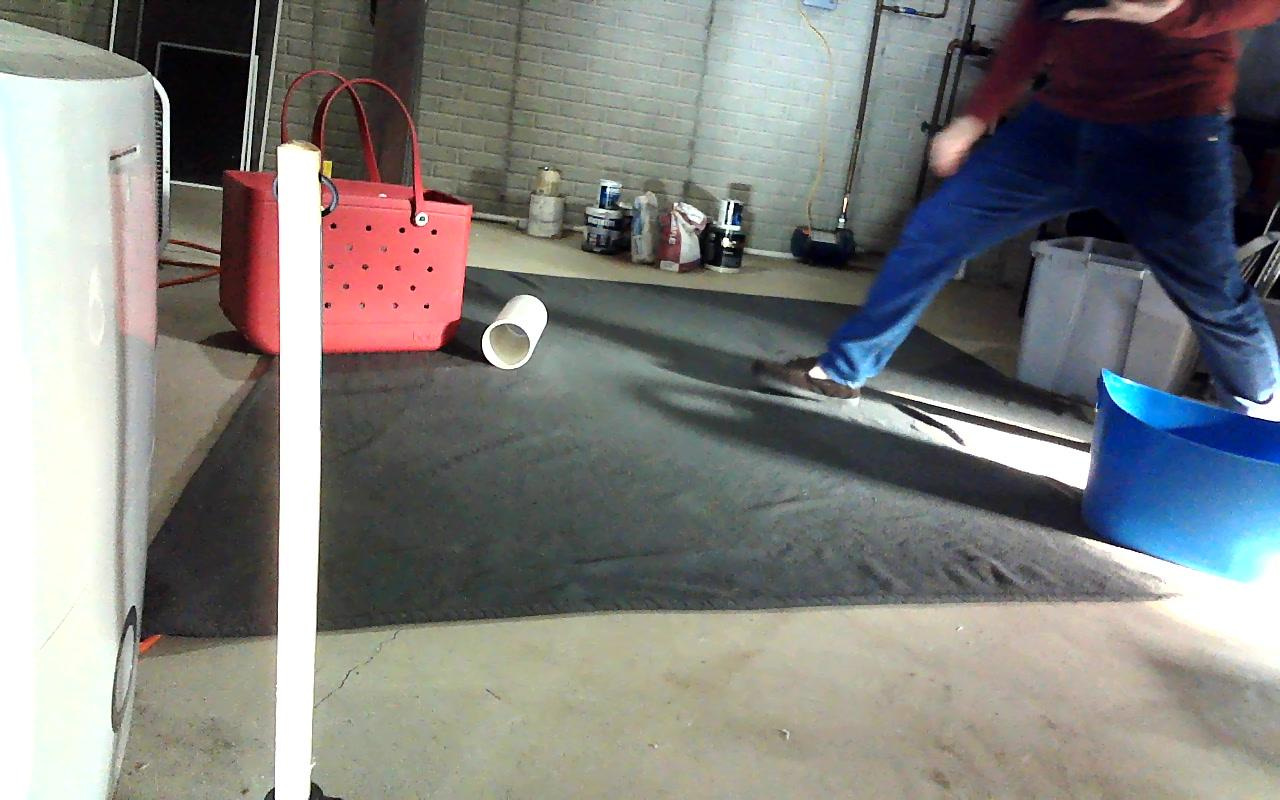coral: (482, 294, 547, 370)
